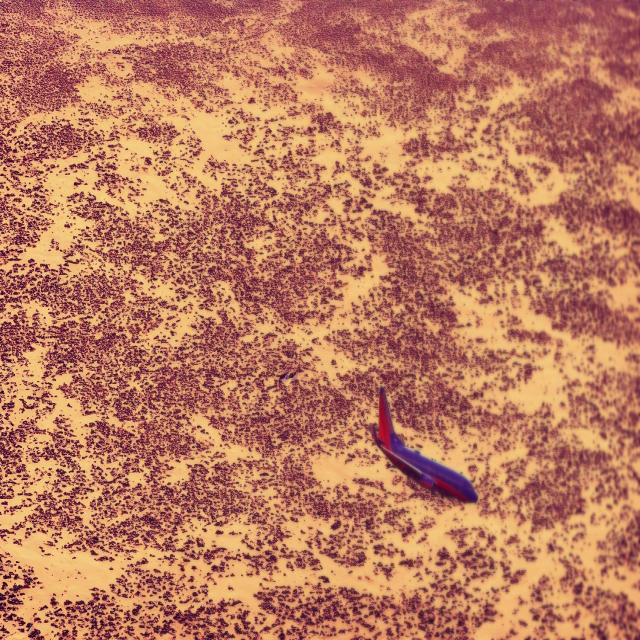airplane: (369, 385, 478, 504)
